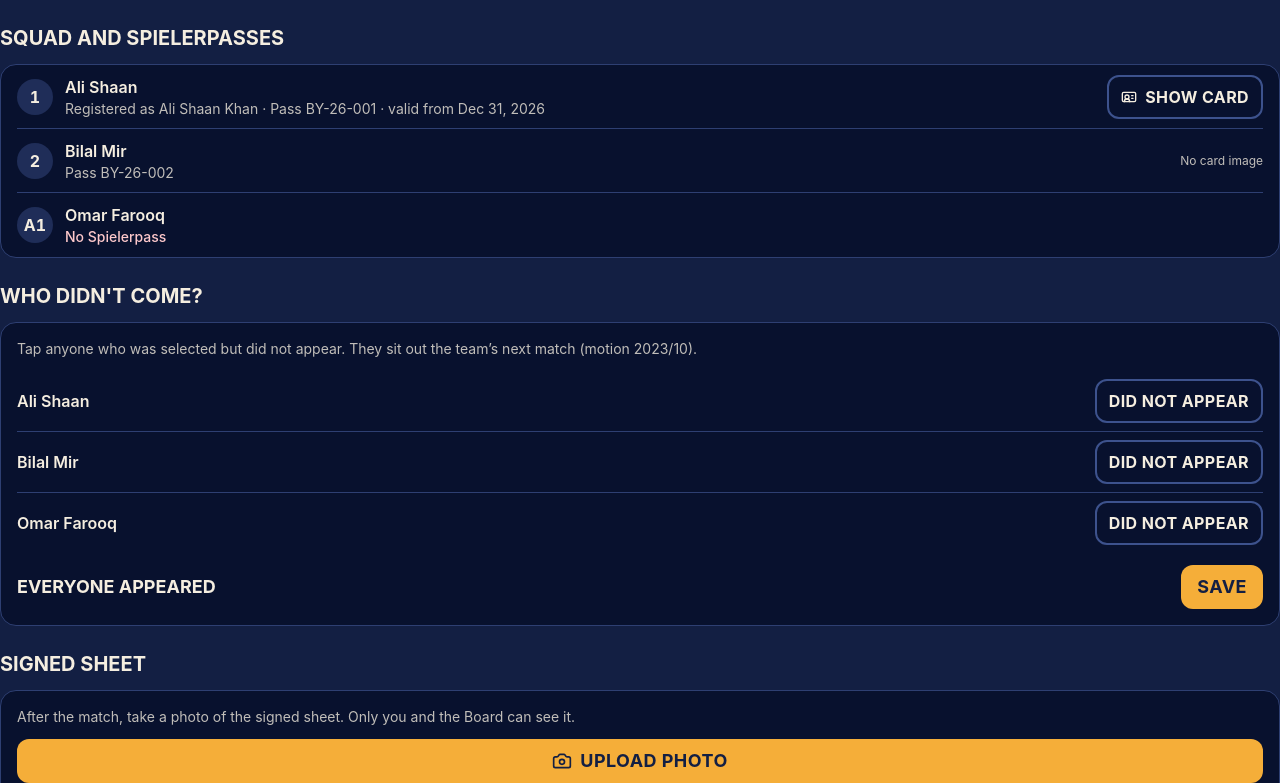
recording no-shows › records an empty list as everyone having appeared
This screenshot has width=1280, height=783.
(page scrolled)
What coordinates should you click on to do the following:
click the button "Save"
I would click on:
 (1222, 587)
Its box is [1181, 565, 1263, 609].
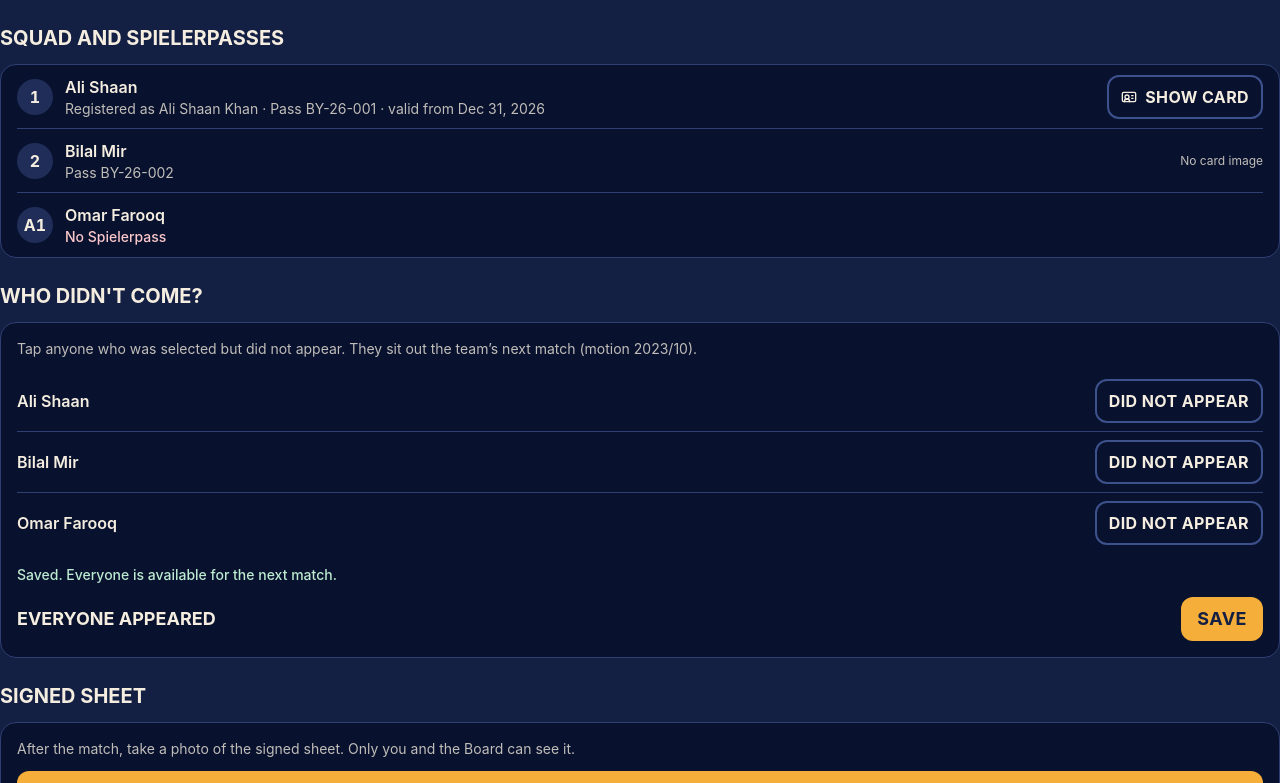
Expected: the message shows "Everyone is available for the next match.", [17, 566, 337, 583]
